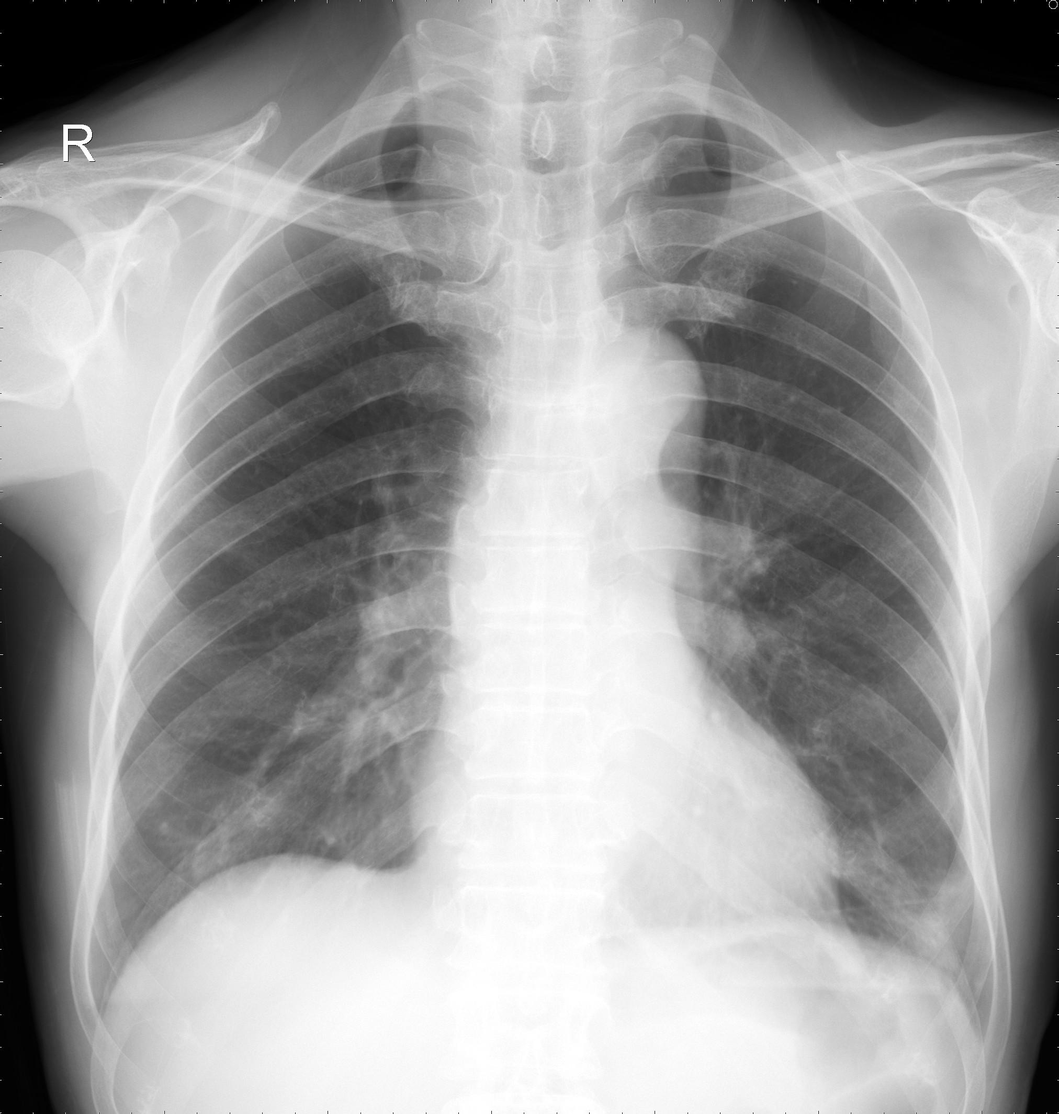Aortic enlargement: (585, 325, 705, 449)
